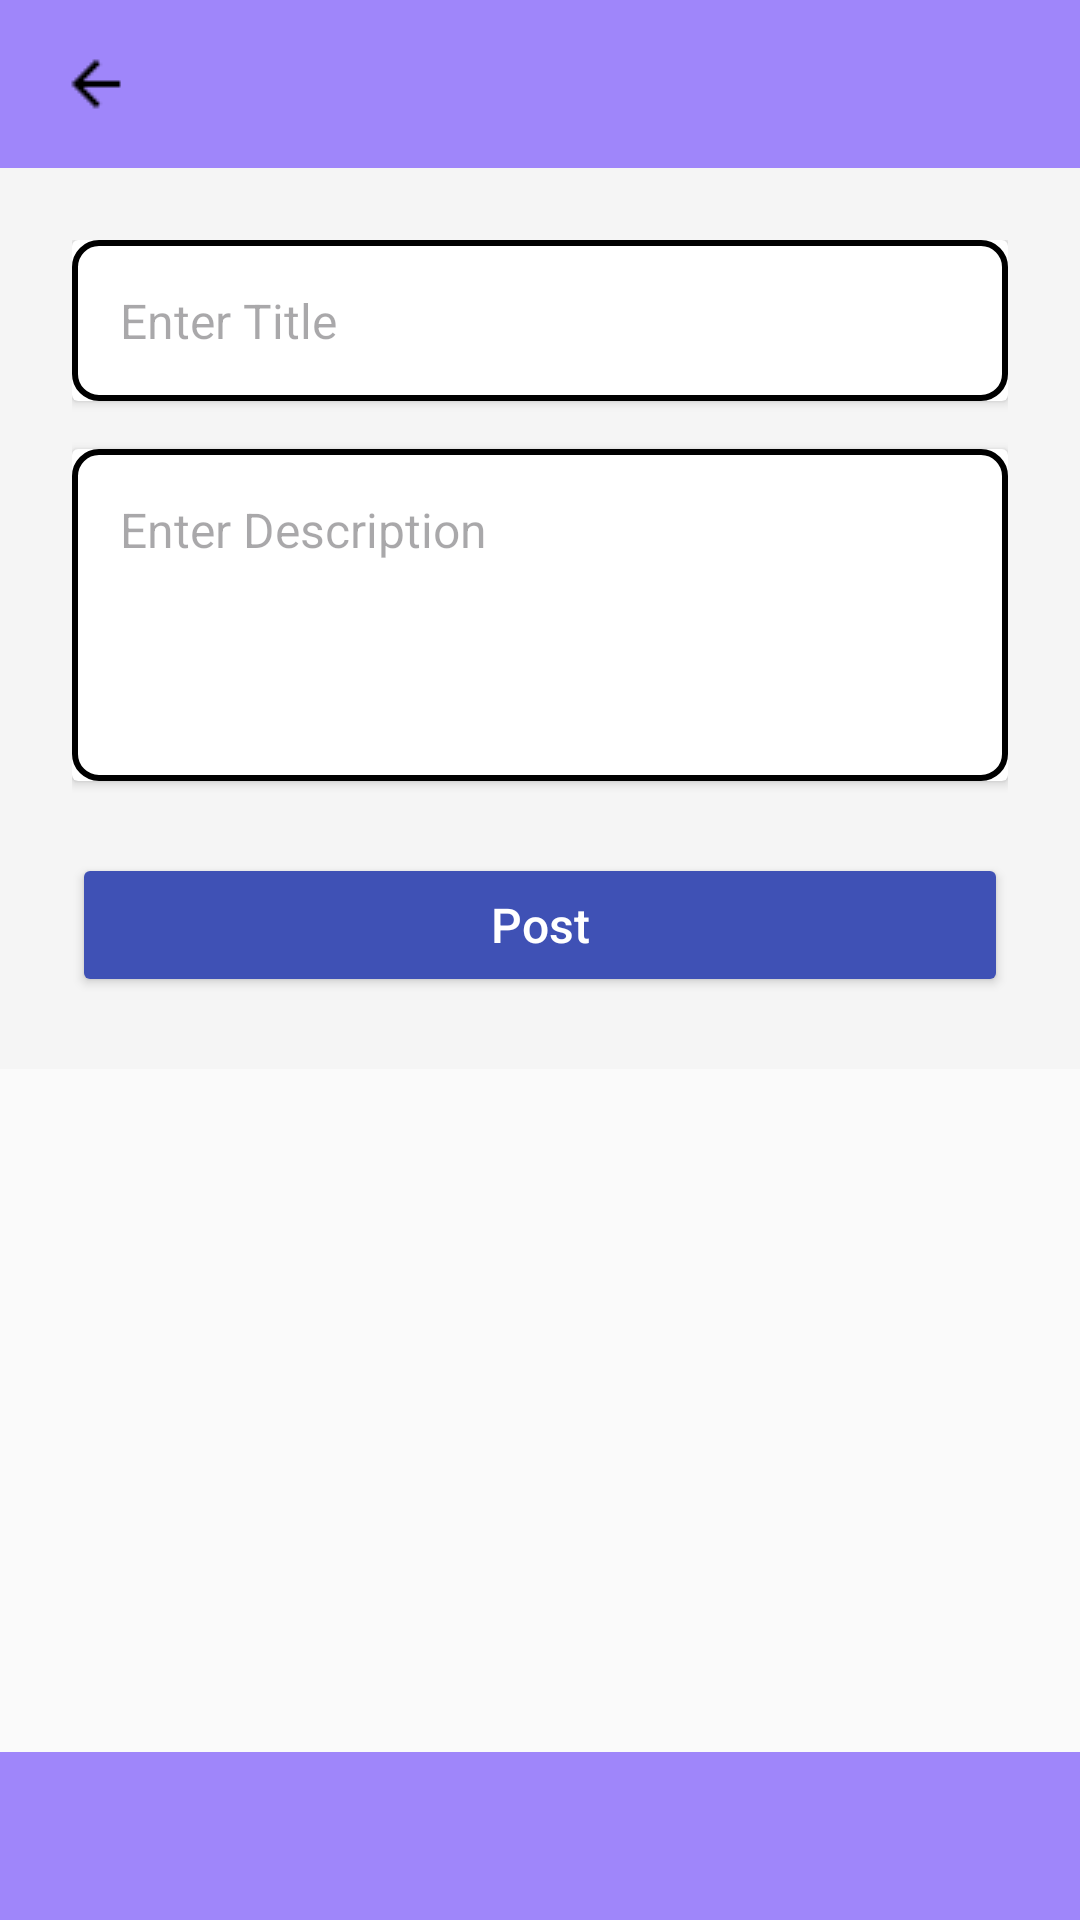

Point at icon controls on the screen. Image size 1080px x 1920px, points as (x=x, y=y).
arrow back: (x=96, y=84)
